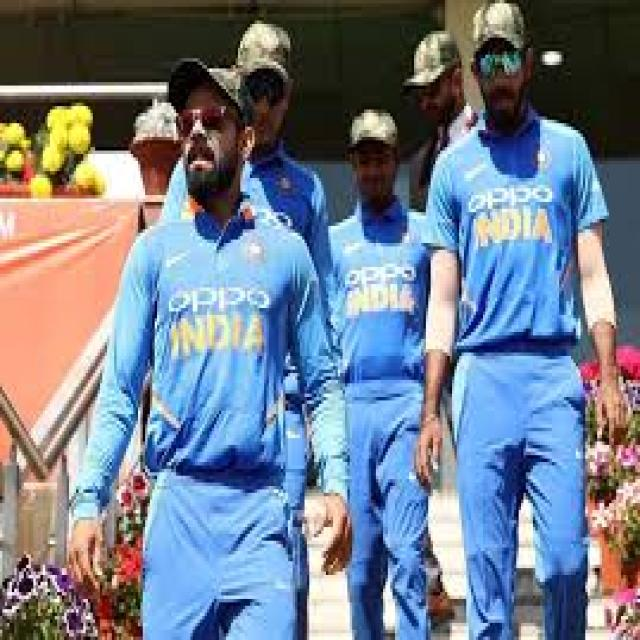cap: (157, 44, 259, 174), (459, 0, 533, 116), (240, 14, 293, 140), (340, 99, 407, 192), (409, 27, 462, 127)
